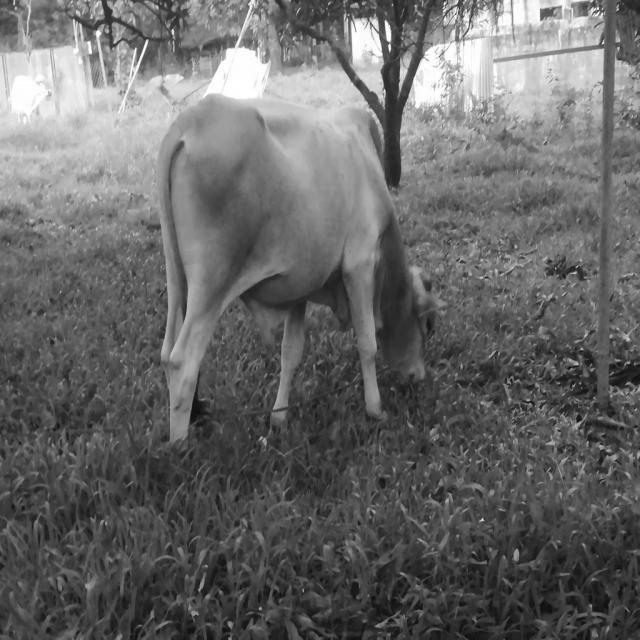cow: (158, 95, 439, 441)
